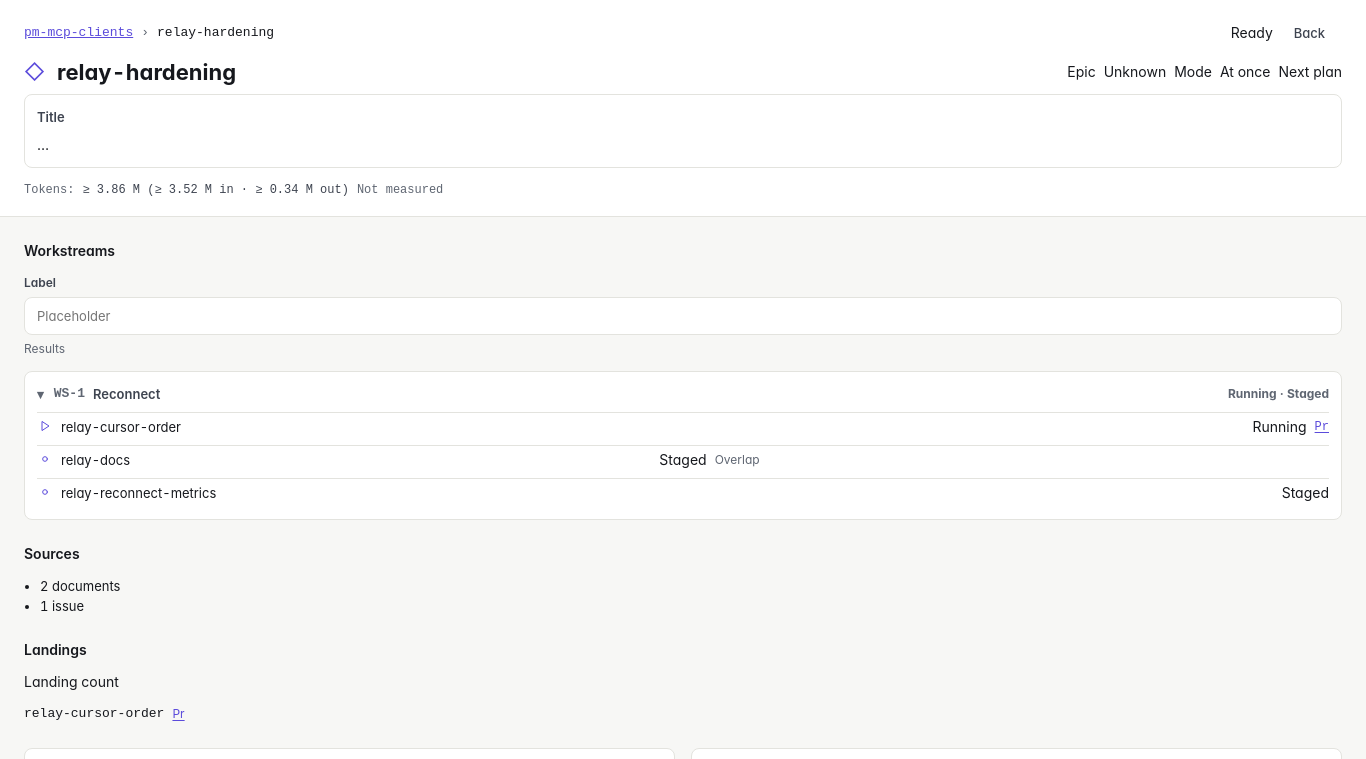
Test: EpicView component › opens a folded workstream while a filter is active
Check: the element with test id "workstream-WS-1" is shown, box [24,371,1342,520]
Step 1. Click the button with test id "workstream-toggle-WS-1" → (99, 394), box [37,384,160,404]
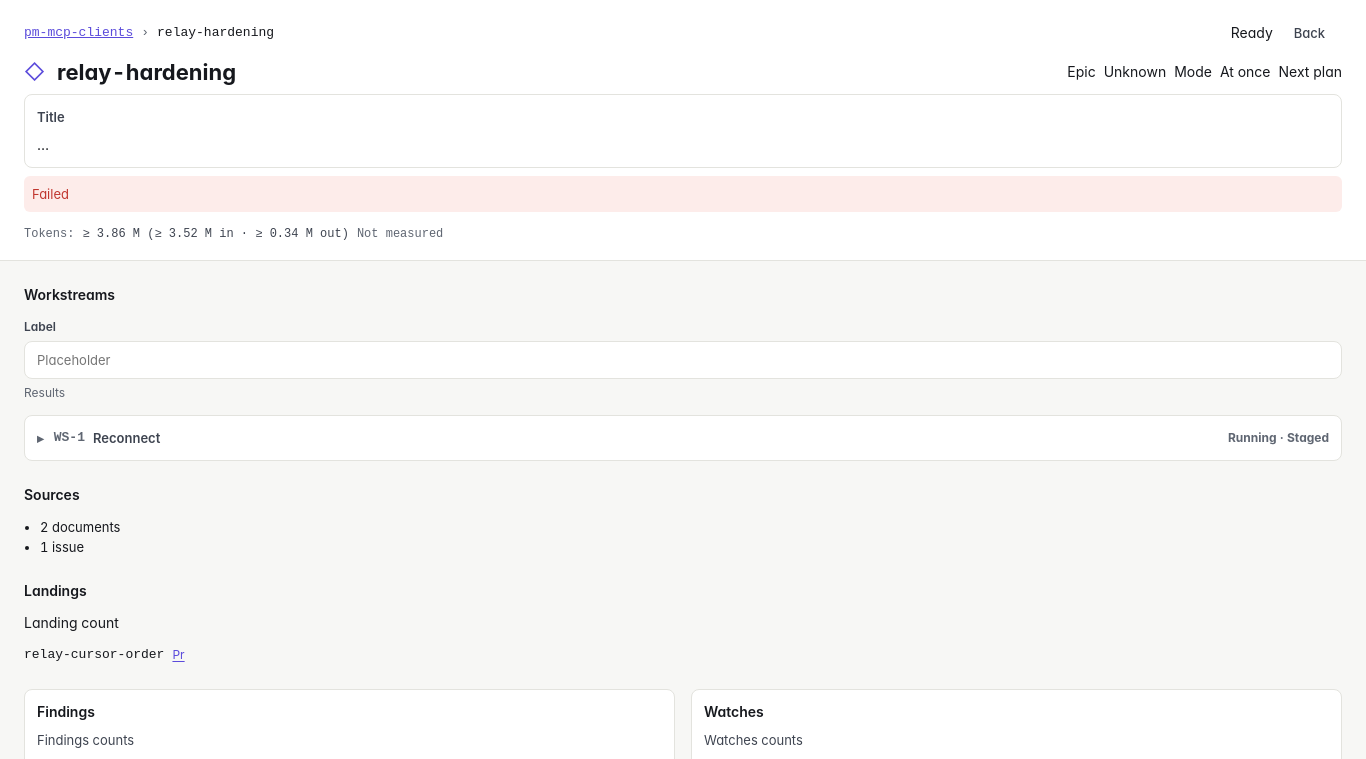
Check: the element with test id "epic-row-relay-docs" is gone
Step 2. Type "relay-docs" into the search field with test id "filter-input" → (683, 360), box [24,341,1342,379]
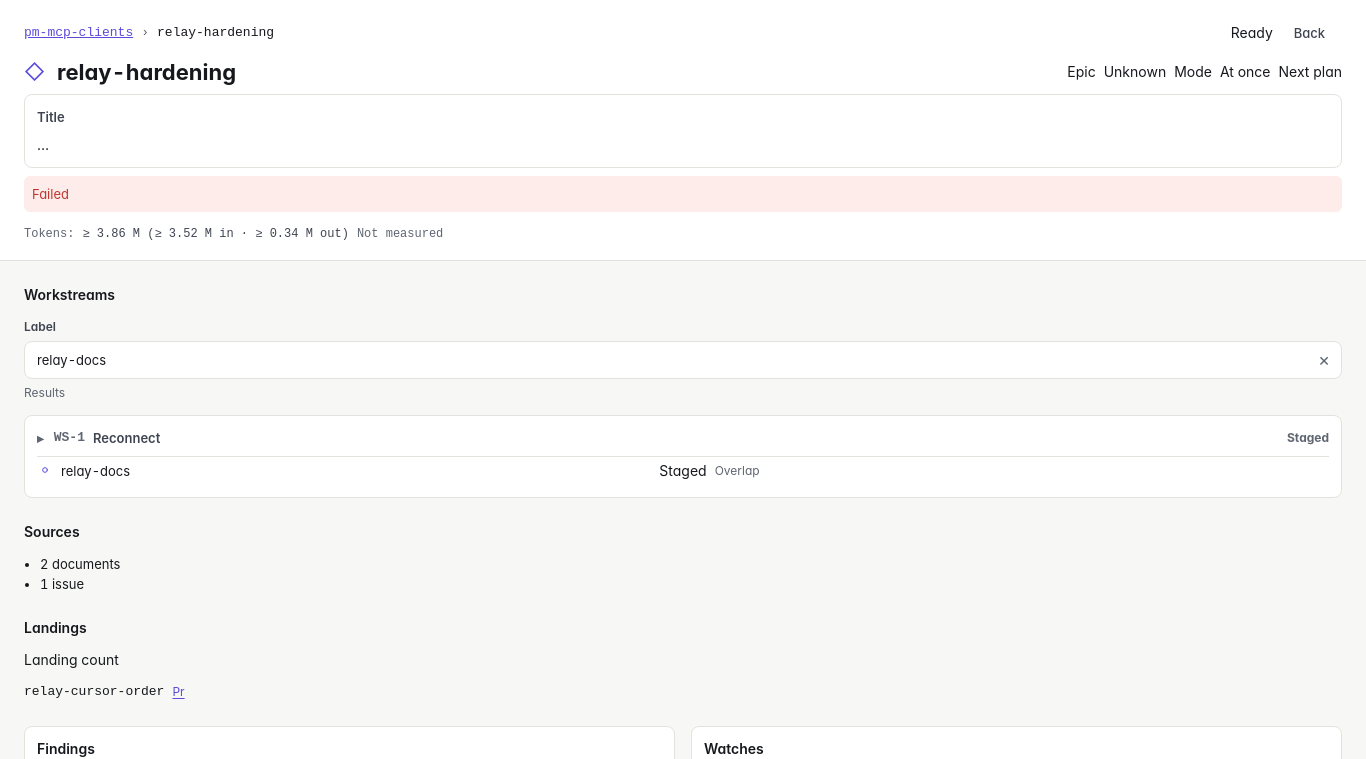
Check: the element with test id "epic-row-relay-docs" is shown, box [37,456,1329,485]
